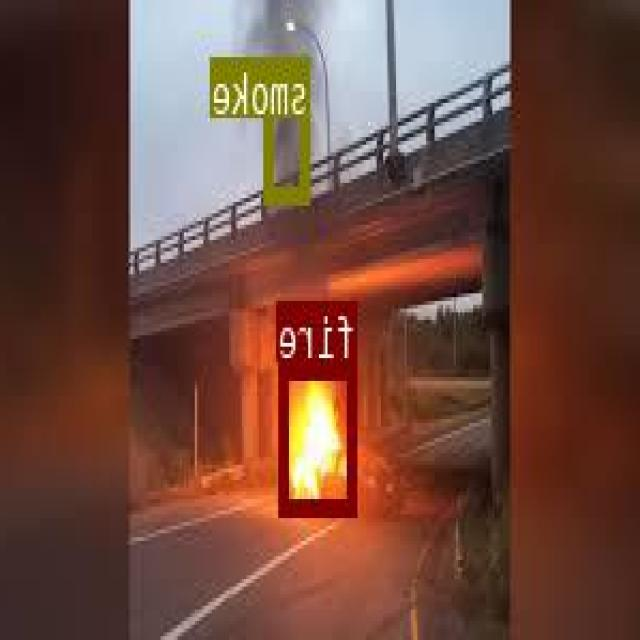fire: (281, 361, 358, 511)
smoke: (267, 54, 311, 201)
